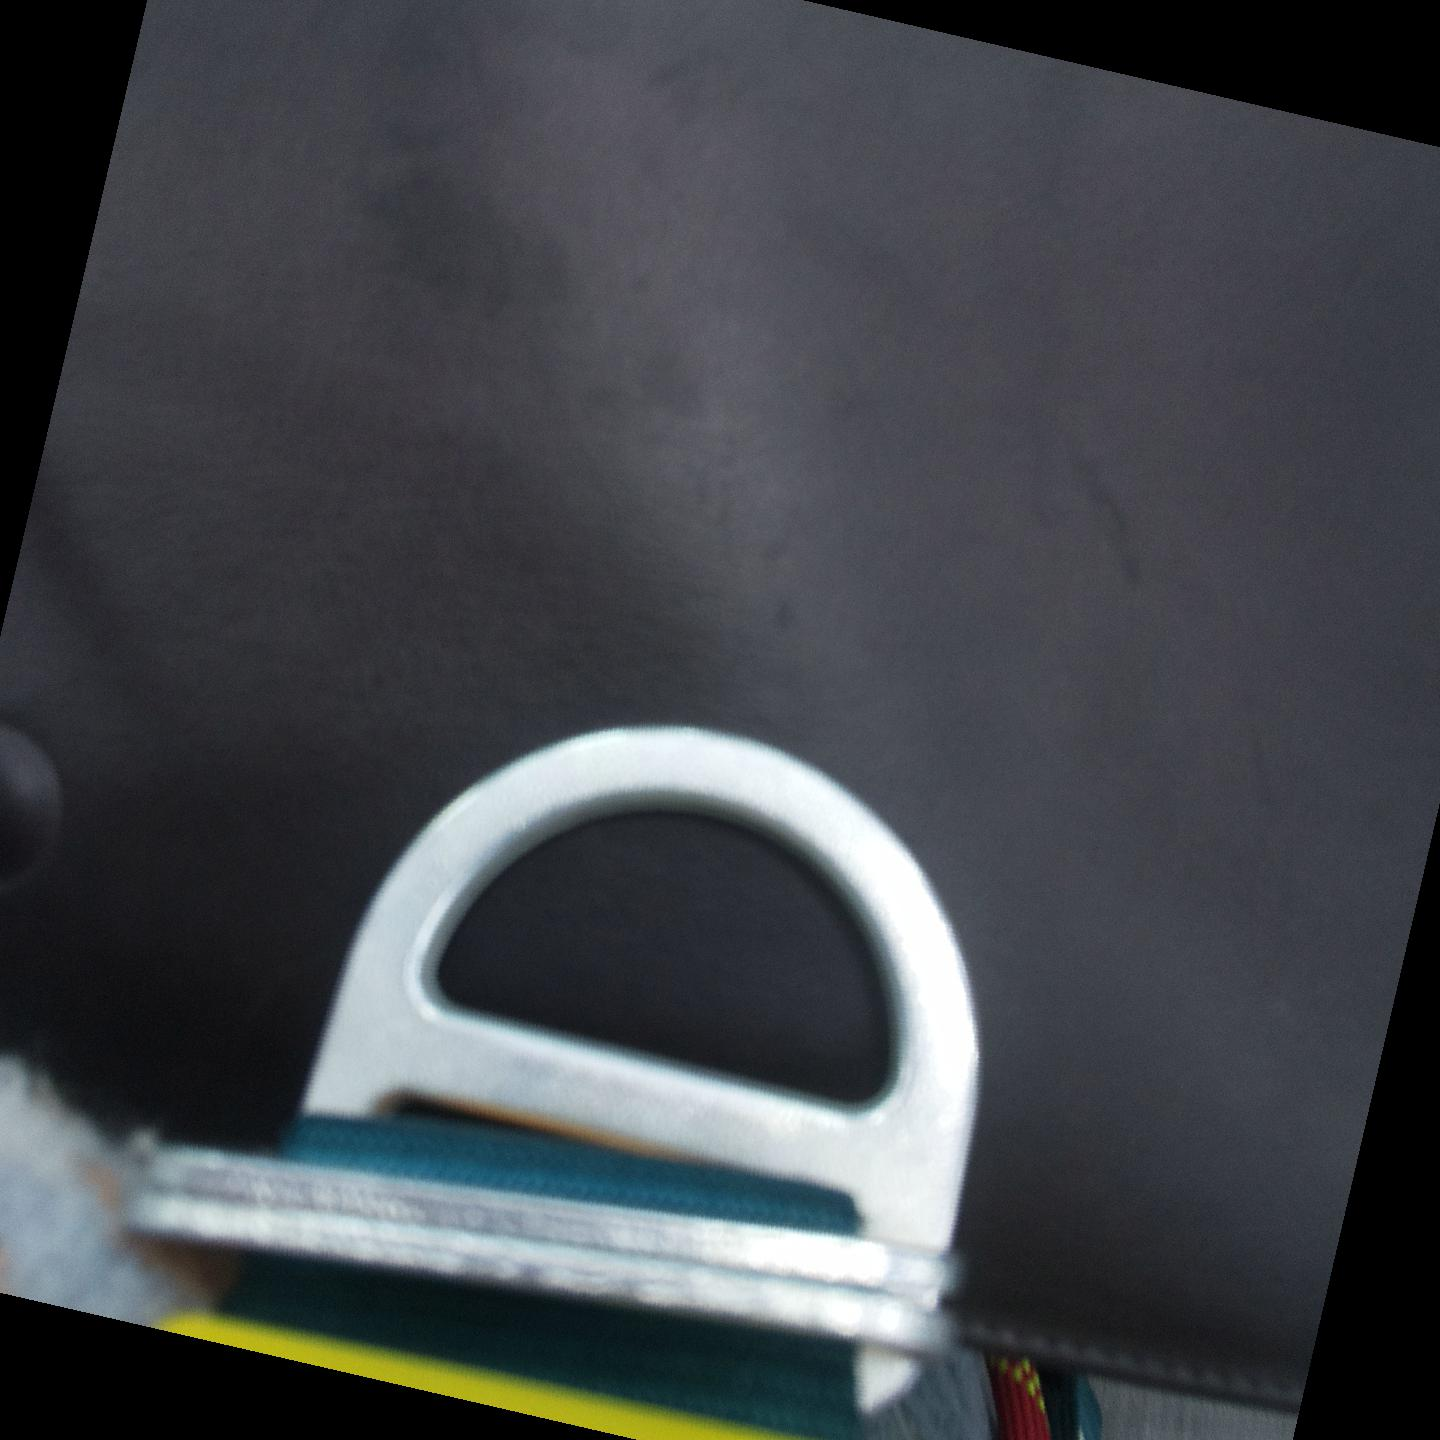UNSUCCESS: (293, 713, 1004, 1195)
